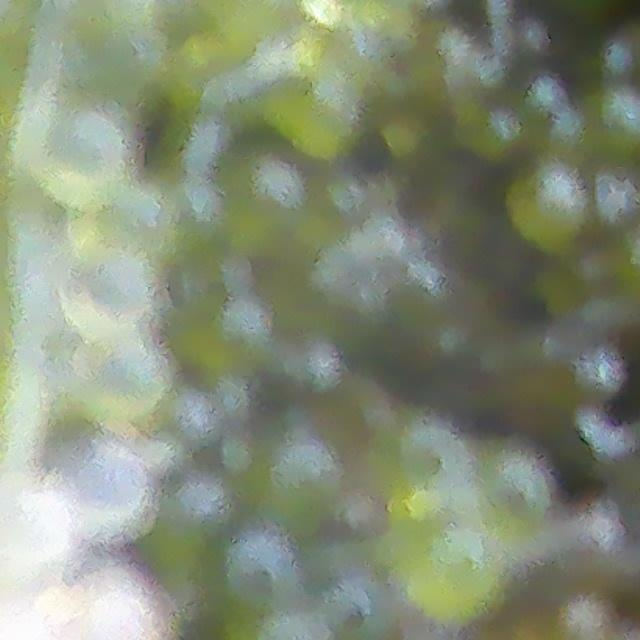SeaGrape: (394, 520, 496, 619), (377, 420, 470, 519), (66, 438, 153, 539), (58, 251, 148, 331), (510, 167, 589, 252), (475, 448, 547, 530), (166, 469, 233, 531)
